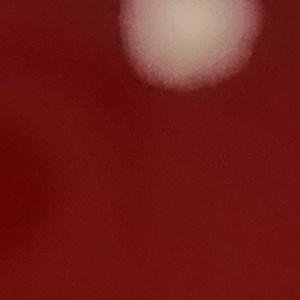colony: (111, 0, 269, 100)
